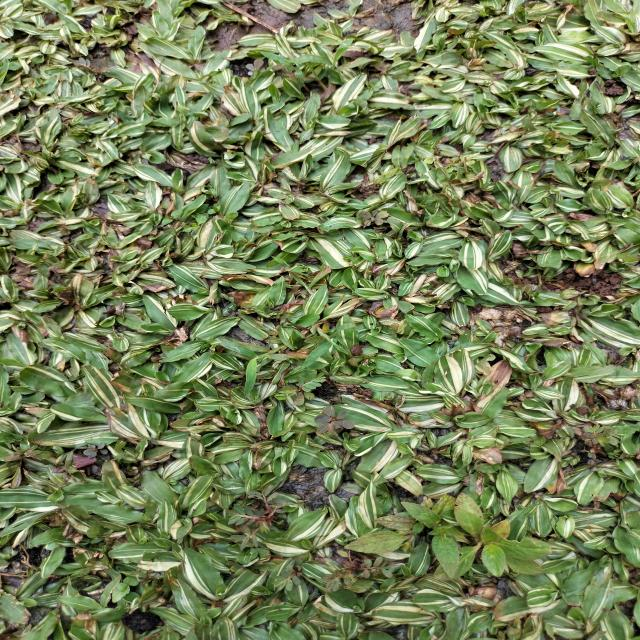buah daun: (222, 482, 297, 552), (274, 370, 330, 408), (581, 422, 623, 462), (313, 403, 357, 437), (71, 55, 117, 78), (271, 564, 305, 592), (358, 208, 392, 228), (82, 441, 113, 460)
rambat atas: (217, 335, 286, 399), (301, 323, 354, 372), (286, 36, 357, 70), (258, 49, 306, 91), (287, 270, 326, 296), (302, 63, 331, 91)
tunggang besar: (427, 491, 555, 583), (338, 493, 464, 583)
